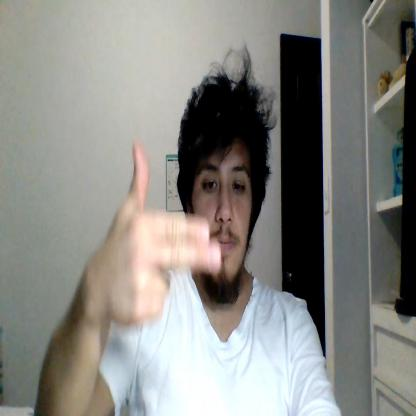H: (99, 142, 222, 324)
